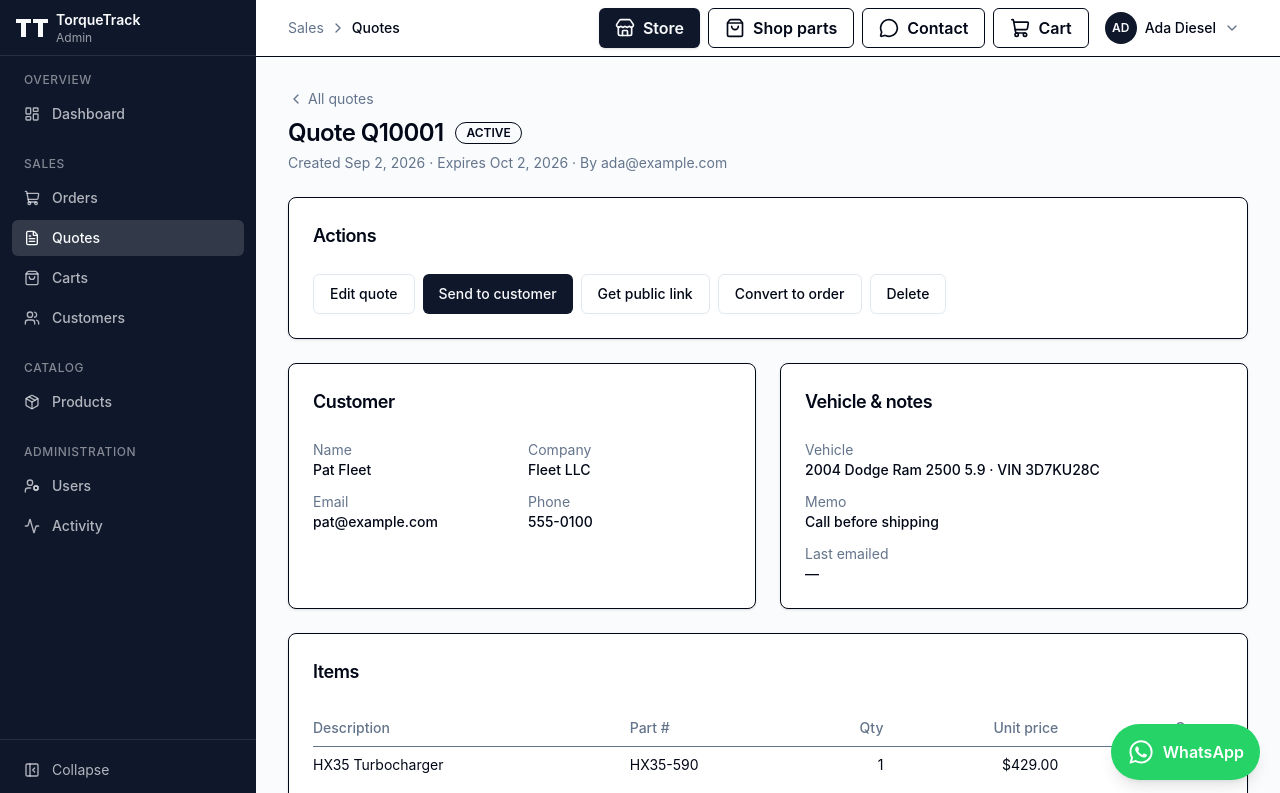
Test: QuoteDetailPage › shows the email error when sending fails
What coordinates should you click on to do the following:
click the button "Send to customer"
I would click on:
 (498, 294)
Its box is [422,274,573,314].
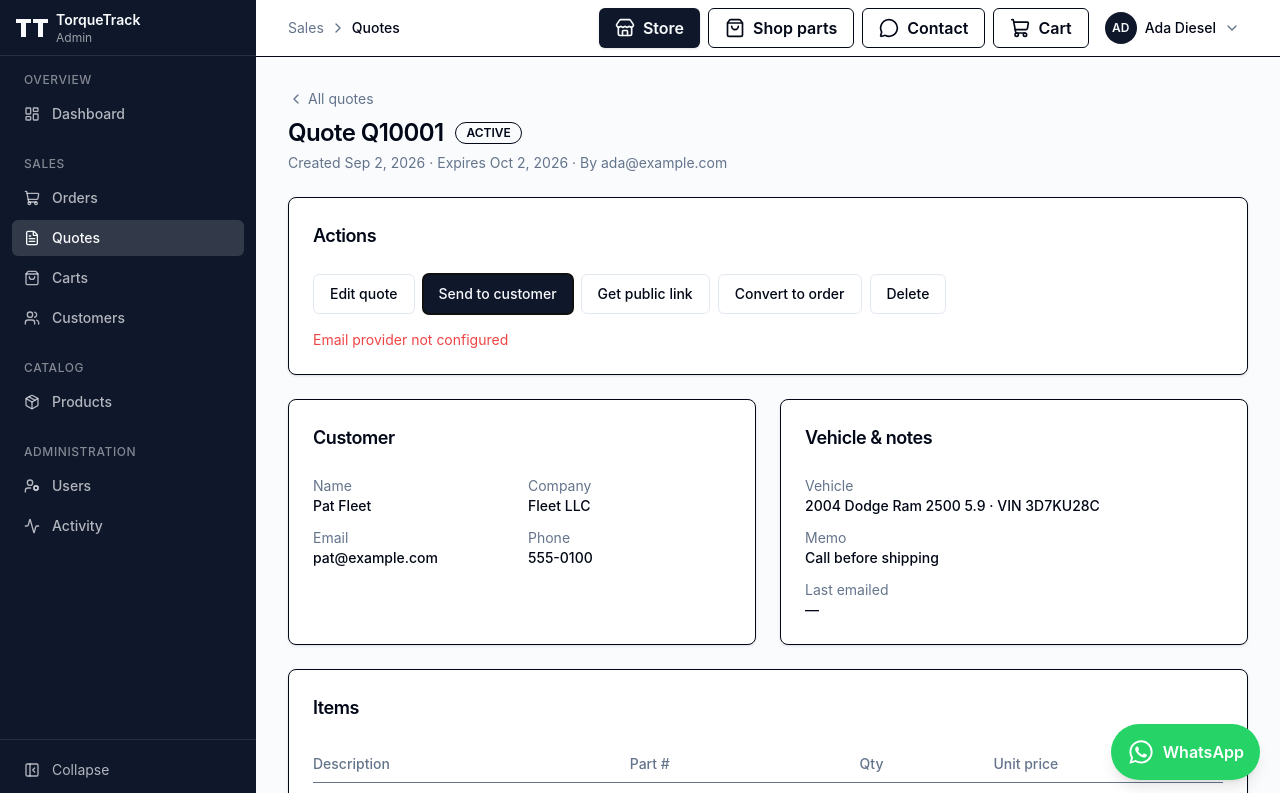
Result: the text "Email provider not configured" is shown at [313,331,508,348]
